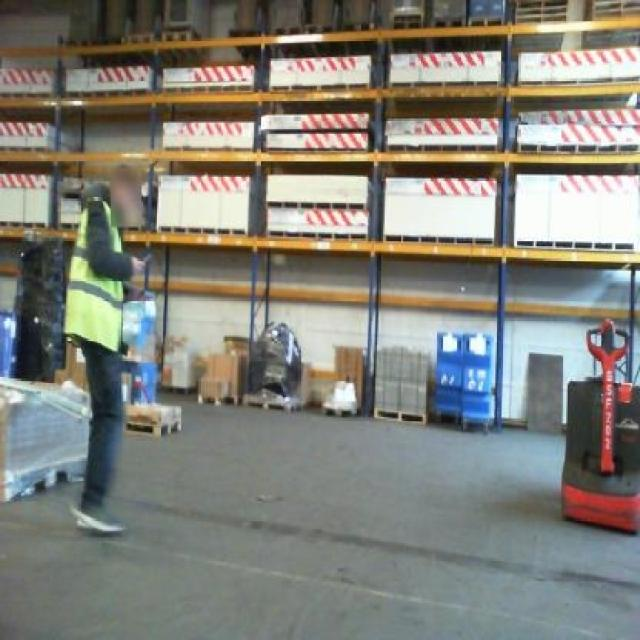floor: (0, 392, 637, 637)
pallets: (0, 376, 88, 498), (514, 174, 637, 248), (385, 177, 492, 240)
